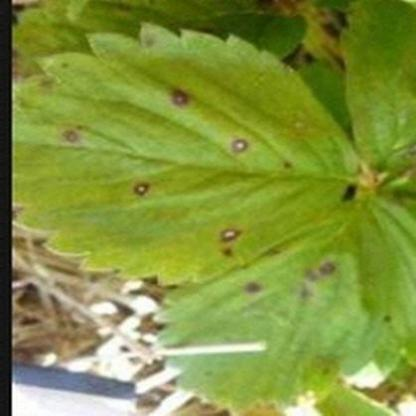Strawberry_Leaf_Spot: (11, 20, 364, 288), (152, 186, 415, 415)
